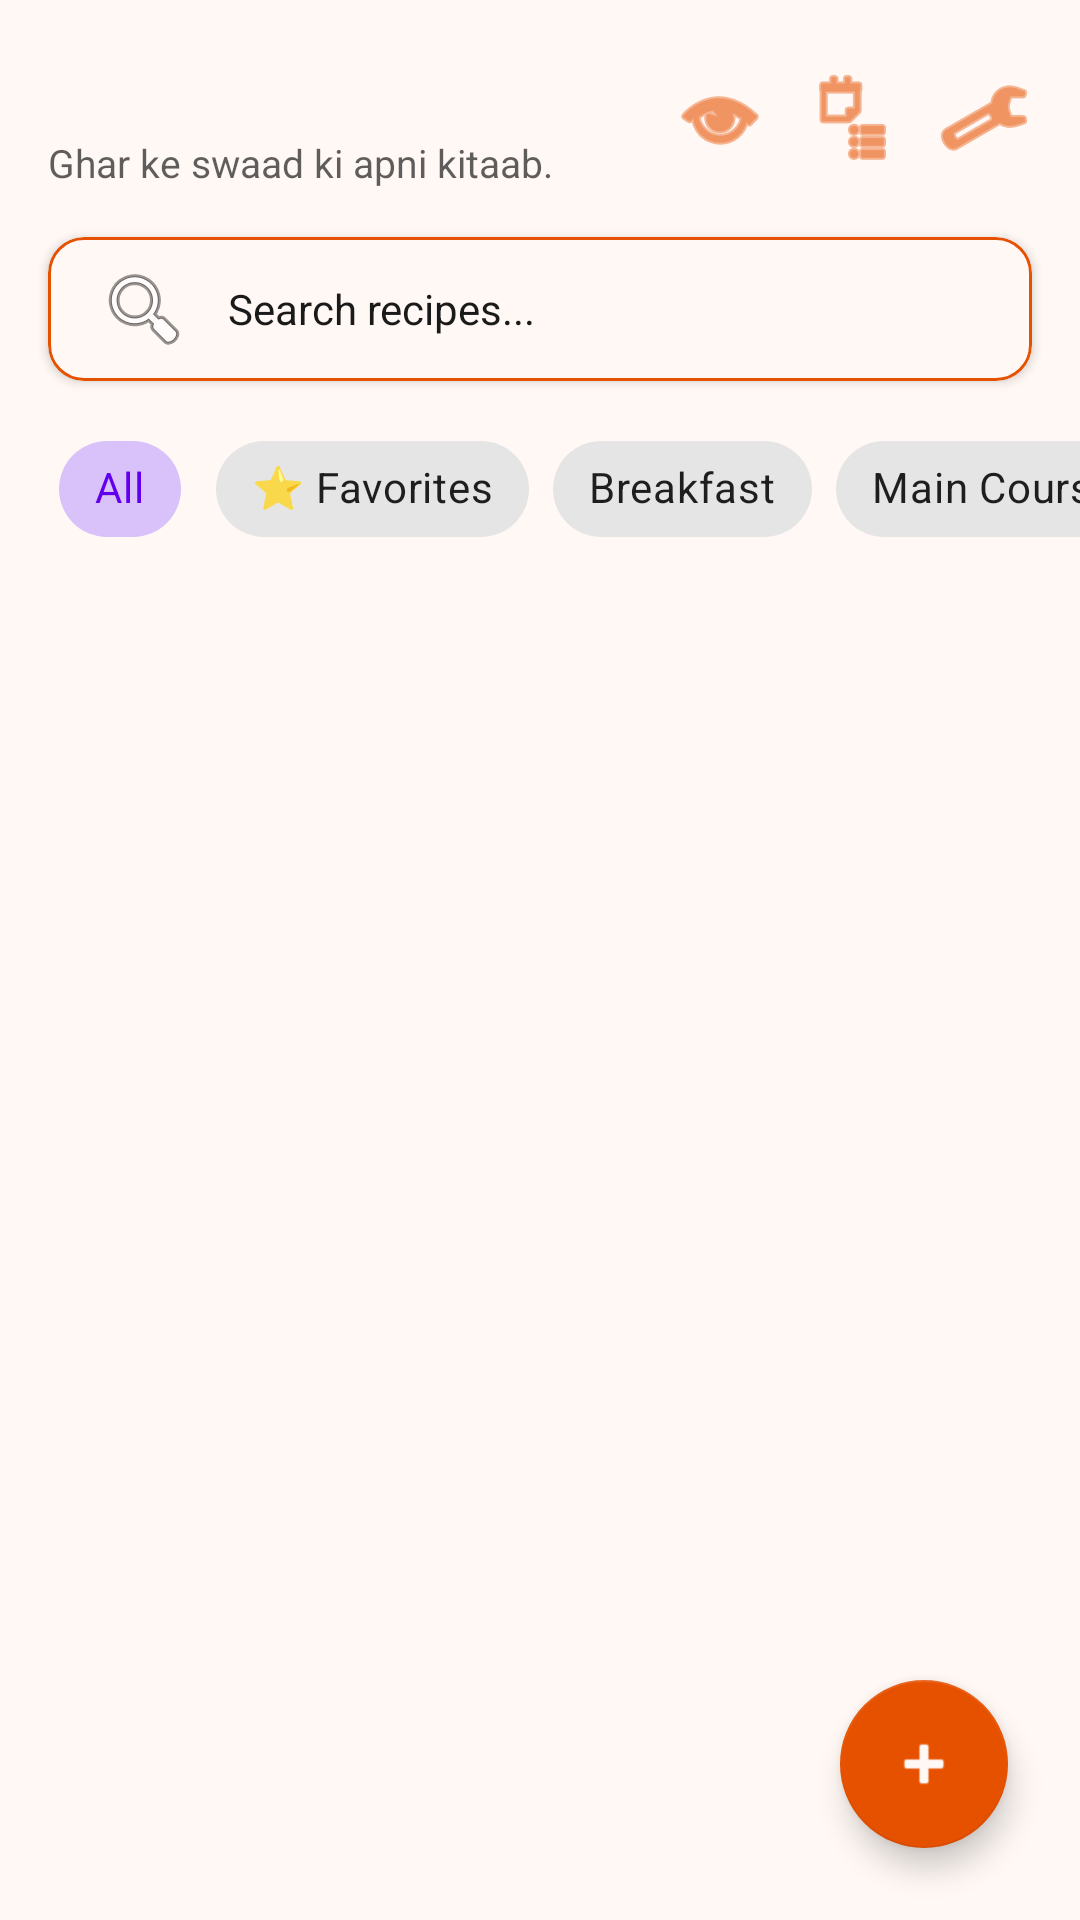

Named icons in this screenshot (1080 × 1920) and their bounding boxes, (left=x1, top=y1, right=x2, bottom=y2):
Create New Recipe: (left=840, top=1680, right=1008, bottom=1848)
Grocery List: (left=819, top=75, right=886, bottom=160)
Settings: (left=941, top=85, right=1027, bottom=151)
